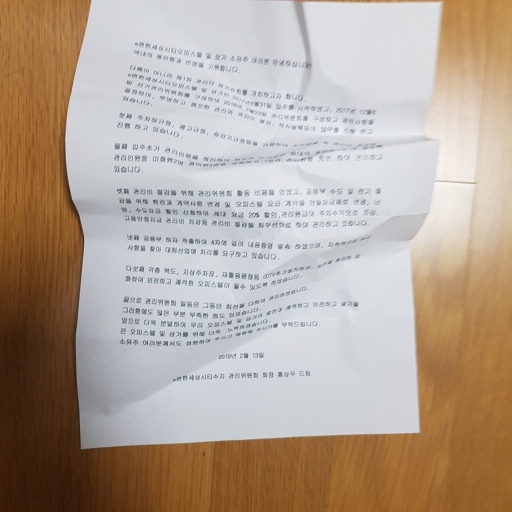Paper_3: (72, 1, 440, 459)
